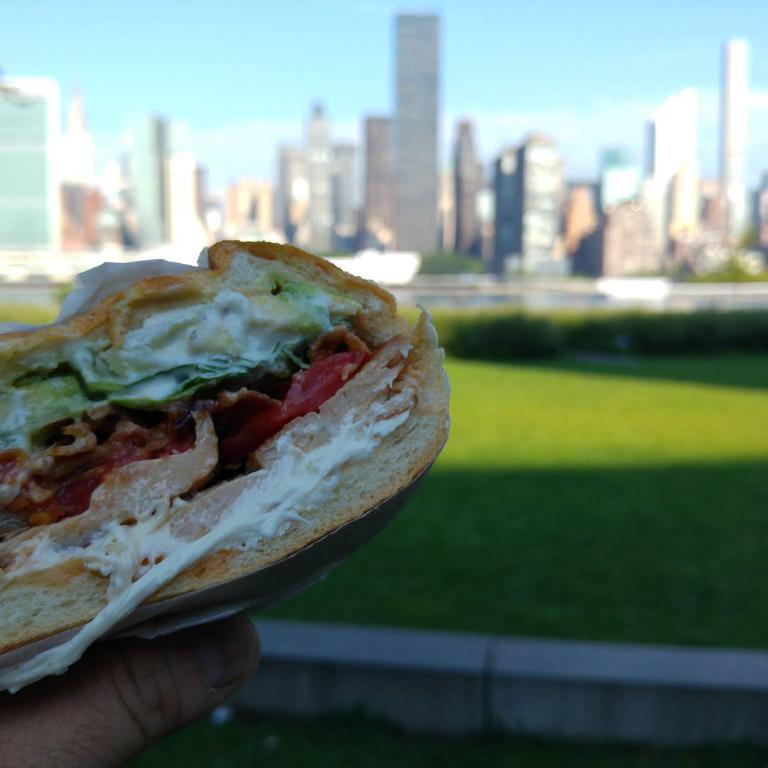Hamburger: (0, 241, 450, 691)
